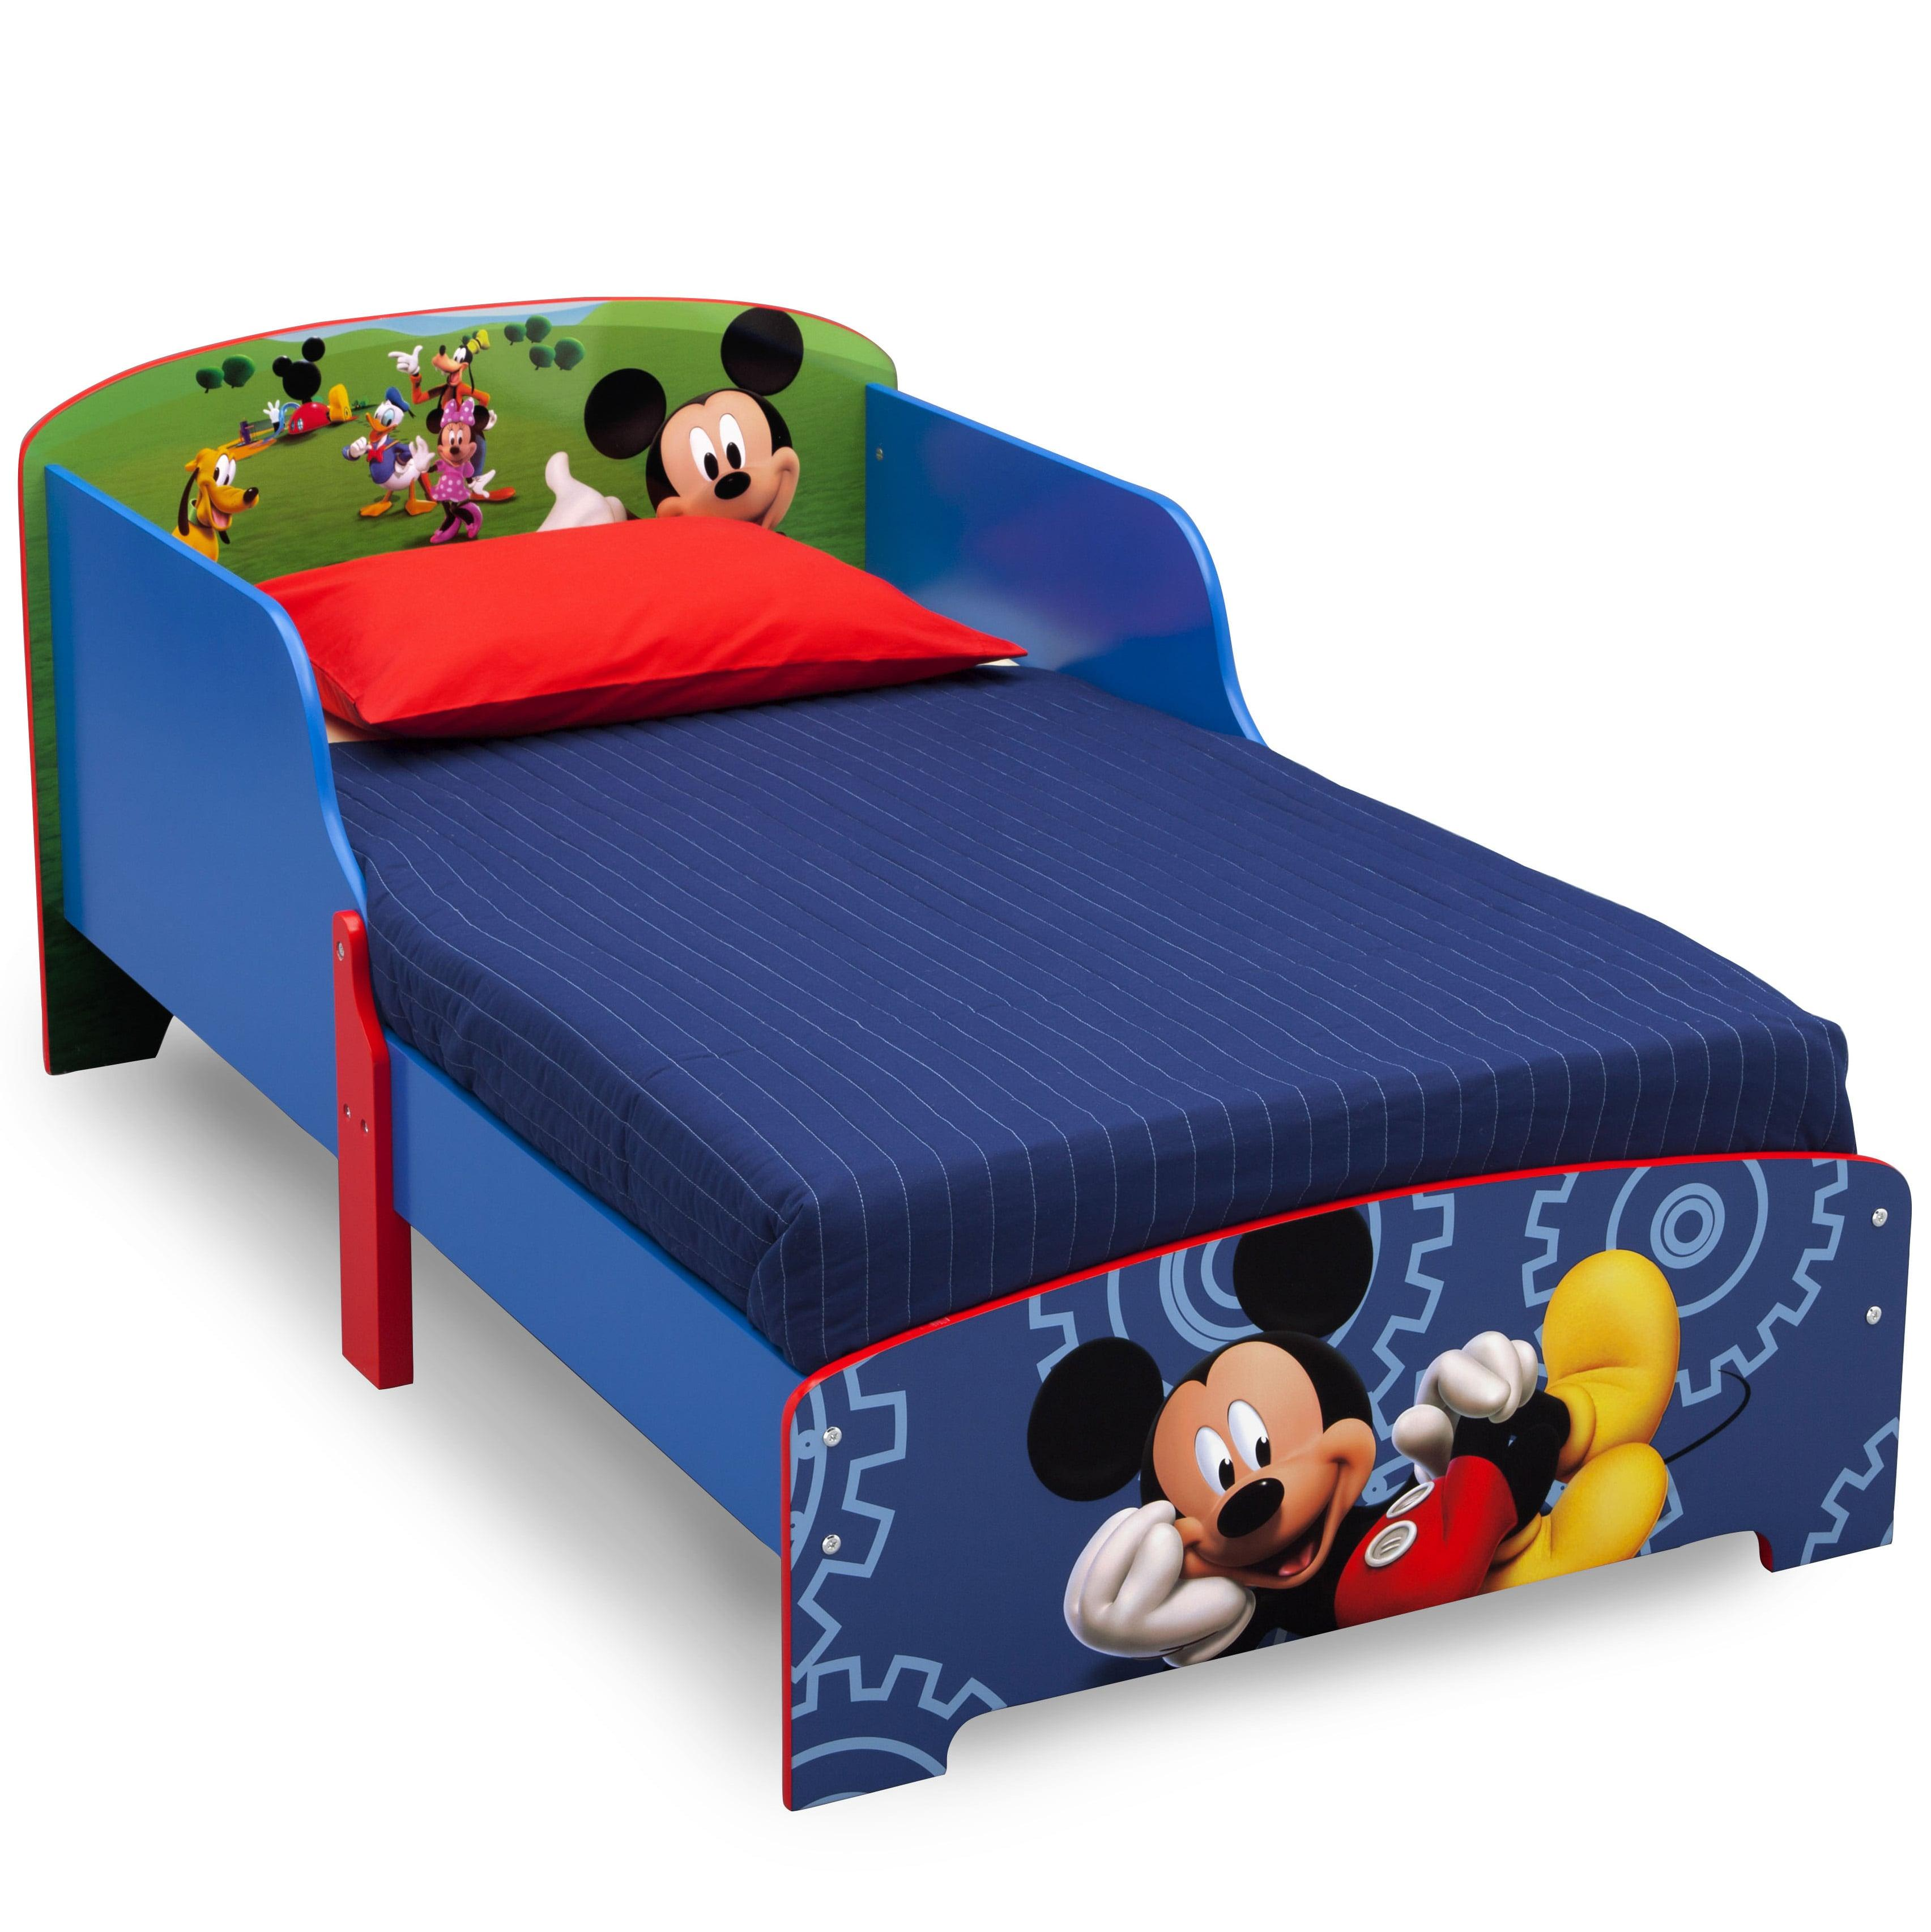bed: (0, 278, 1931, 1546)
